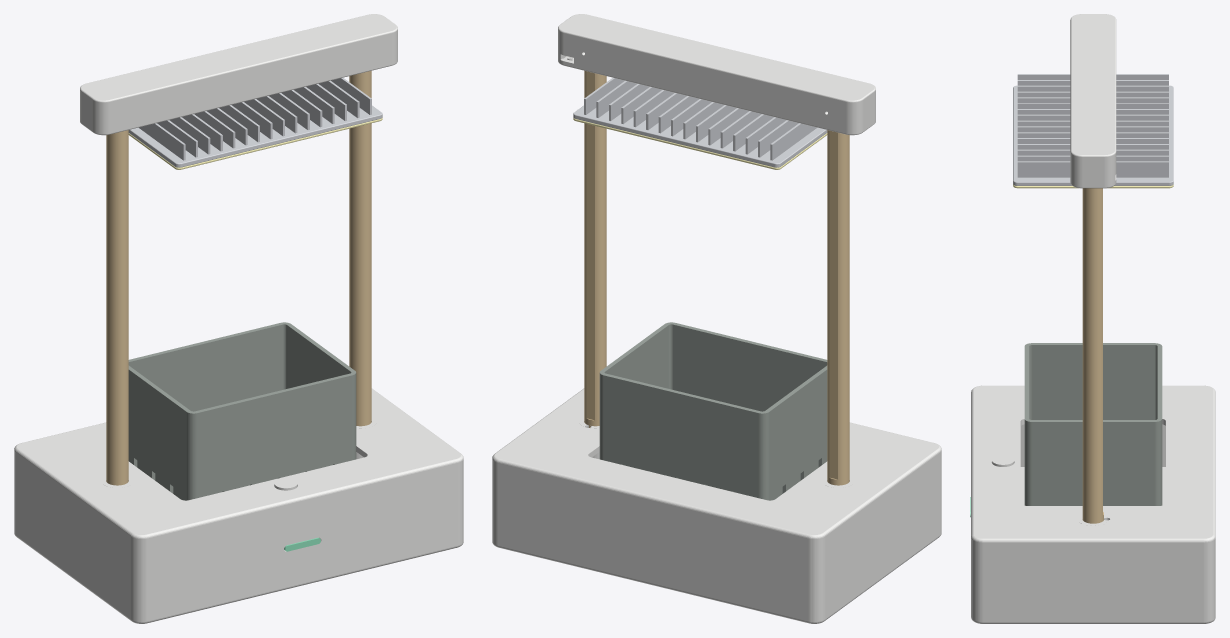
The model's file is opencanopy-v1.glb.
3 views of the same model, side by side, from view 1: azimuth 30°, elevation 25°; view 2: azimuth 150°, elevation 25°; view 3: azimuth 270°, elevation 25° (orthographic). The views are drawn at different scales.
Visible parts, largest first — view 1: base, grow_insert, light_block, heatsink, pillar_left, pillar_right, led_panel; view 2: base, grow_insert, light_block, heatsink, pillar_left, pillar_right, led_panel; view 3: base, grow_insert, heatsink, light_block, pillar_right, led_panel.
Boxes of the visible parts, box(x1,y1,x2,y2) form: base: box(14, 388, 463, 623); grow_insert: box(128, 322, 356, 500); light_block: box(80, 14, 397, 135); heatsink: box(128, 77, 382, 167); pillar_left: box(106, 130, 128, 485); pillar_right: box(349, 70, 371, 426); led_panel: box(128, 118, 382, 169); base: box(492, 388, 941, 623); grow_insert: box(599, 322, 827, 500); light_block: box(558, 14, 875, 135); heatsink: box(573, 77, 827, 167); pillar_left: box(827, 130, 849, 485); pillar_right: box(584, 70, 606, 427); led_panel: box(573, 118, 827, 169); base: box(971, 385, 1215, 623); grow_insert: box(1024, 343, 1162, 505); heatsink: box(1013, 74, 1173, 185); light_block: box(1070, 14, 1116, 188); pillar_right: box(1082, 188, 1103, 523); led_panel: box(1013, 184, 1173, 188).
Bounding box in the file's own units: 480 × 680 × 321.
